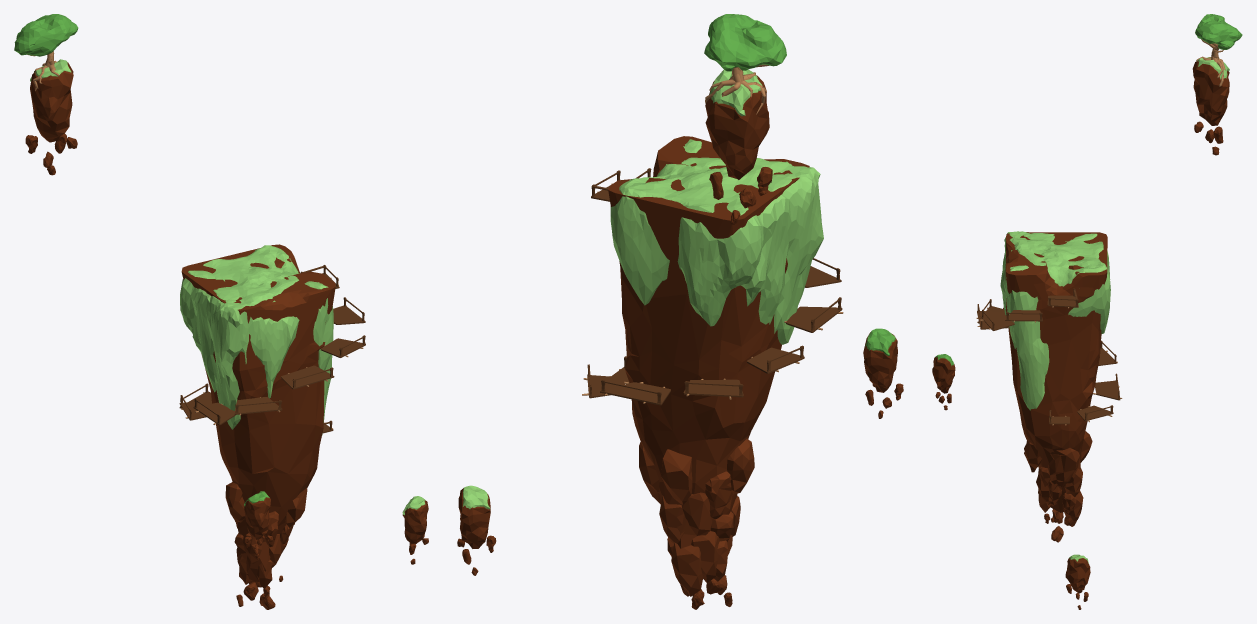
The model's file is Uno_Isola5.fbx.
The picture shows the model from 3 angles, left to right: view 1: azimuth 30°, elevation 25°; view 2: azimuth 150°, elevation 25°; view 3: azimuth 270°, elevation 25°; orthographic projection. The views are drawn at different scales.
Visible parts, largest first — view 1: Plane.008, Plane.019, Sphere.125, Mball.003, Sphere.126, Sphere.055, Plane.014, Circle.008, Circle.011, Sphere.006, Plane.023; view 2: Plane.008, Plane.019, Sphere.125, Mball.003, Sphere.000, Sphere.022, Sphere.126, Sphere.055, Circle.017, Sphere.006, Sphere.124, Circle.011 (+9 smaller); view 3: Plane.008, Plane.019, Sphere.125, Mball.003, Sphere.021, Sphere.055, Sphere.126, Circle.017.
Boxes of the visible parts, x1=… form: Plane.008: x1=181, y1=244, x2=335, y2=582; Plane.019: x1=180, y1=245, x2=333, y2=435; Sphere.125: x1=30, y1=62, x2=73, y2=142; Mball.003: x1=14, y1=14, x2=78, y2=56; Sphere.126: x1=244, y1=497, x2=270, y2=539; Sphere.055: x1=402, y1=500, x2=428, y2=544; Plane.014: x1=281, y1=365, x2=334, y2=389; Circle.008: x1=234, y1=397, x2=282, y2=415; Circle.011: x1=193, y1=398, x2=235, y2=425; Sphere.006: x1=225, y1=482, x2=245, y2=522; Plane.023: x1=320, y1=335, x2=365, y2=357; Plane.008: x1=608, y1=136, x2=809, y2=555; Plane.019: x1=610, y1=139, x2=823, y2=344; Sphere.125: x1=705, y1=75, x2=769, y2=179; Mball.003: x1=704, y1=14, x2=786, y2=71; Sphere.000: x1=661, y1=449, x2=692, y2=504; Sphere.022: x1=671, y1=542, x2=703, y2=596; Sphere.126: x1=863, y1=332, x2=897, y2=392; Sphere.055: x1=458, y1=488, x2=490, y2=548; Circle.017: x1=600, y1=379, x2=670, y2=405; Sphere.006: x1=727, y1=438, x2=754, y2=493; Sphere.124: x1=709, y1=69, x2=762, y2=116; Circle.011: x1=784, y1=297, x2=843, y2=332; Plane.008: x1=1005, y1=232, x2=1107, y2=512; Plane.019: x1=1000, y1=231, x2=1110, y2=410; Sphere.125: x1=1192, y1=61, x2=1229, y2=125; Mball.003: x1=1195, y1=14, x2=1242, y2=49; Sphere.021: x1=1048, y1=448, x2=1079, y2=489; Sphere.055: x1=1065, y1=558, x2=1090, y2=593; Sphere.126: x1=932, y1=357, x2=955, y2=393; Circle.017: x1=1093, y1=373, x2=1122, y2=400.
Bounding box in the file's own units: 451 × 722 × 430.
